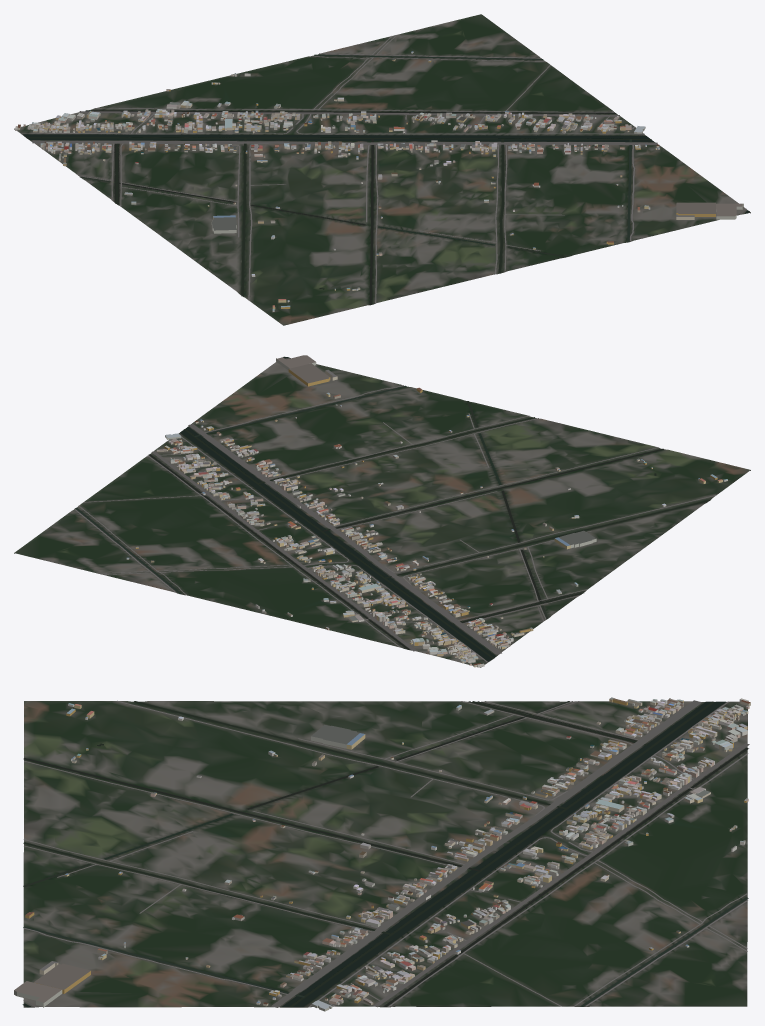
The picture shows the model from 3 angles, top to bottom: view 1: azimuth 30°, elevation 25°; view 2: azimuth 150°, elevation 25°; view 3: azimuth 270°, elevation 25°; orthographic projection. The views are drawn at different scales.
Visible parts, largest first — view 1: ground, buildings, water, roads; view 2: ground, buildings, water, roads; view 3: ground, buildings, water, roads.
Part boxes in pixels (x1=…): ground: x1=14, y1=14, x2=750, y2=325; buildings: x1=15, y1=51, x2=743, y2=311; water: x1=23, y1=54, x2=749, y2=304; roads: x1=21, y1=34, x2=746, y2=303; ground: x1=14, y1=356, x2=750, y2=667; buildings: x1=126, y1=355, x2=727, y2=667; water: x1=75, y1=357, x2=710, y2=661; roads: x1=74, y1=358, x2=716, y2=662; ground: x1=23, y1=701, x2=747, y2=1007; buildings: x1=14, y1=697, x2=750, y2=1011; water: x1=22, y1=701, x2=748, y2=1007; roads: x1=23, y1=700, x2=749, y2=1007.
Size of the model in its own units: 1425 by 18.43 by 1426.
